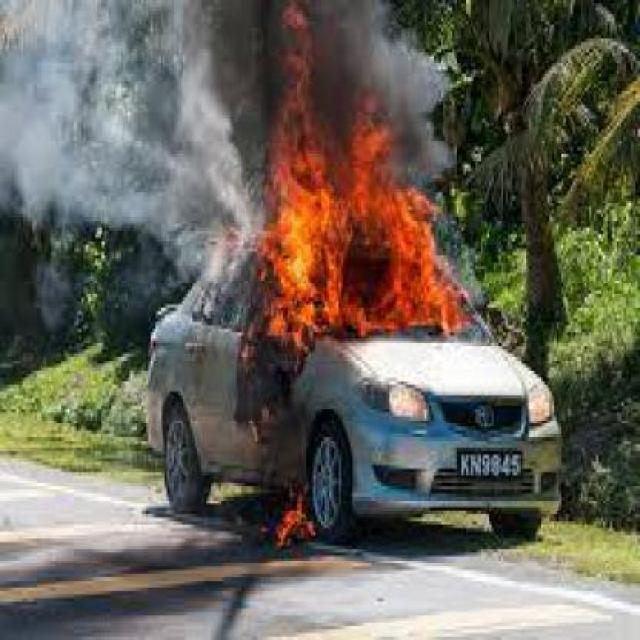fire: (252, 113, 471, 350), (263, 480, 328, 557)
